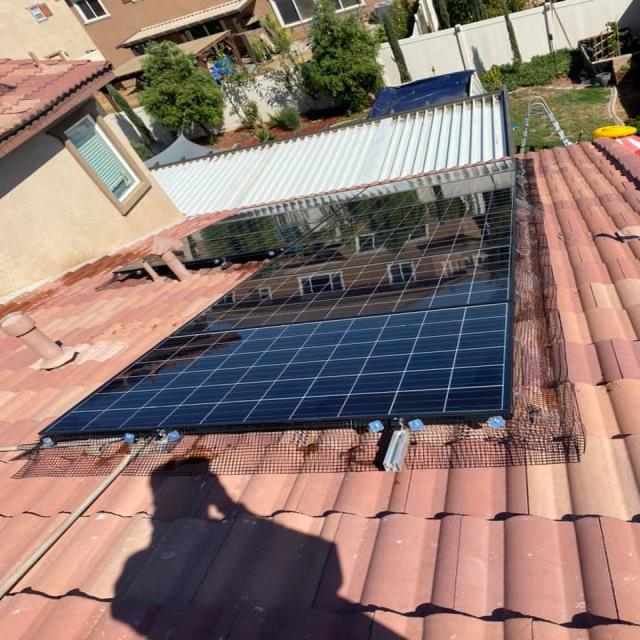clean-solar-panel: (45, 159, 515, 439)
